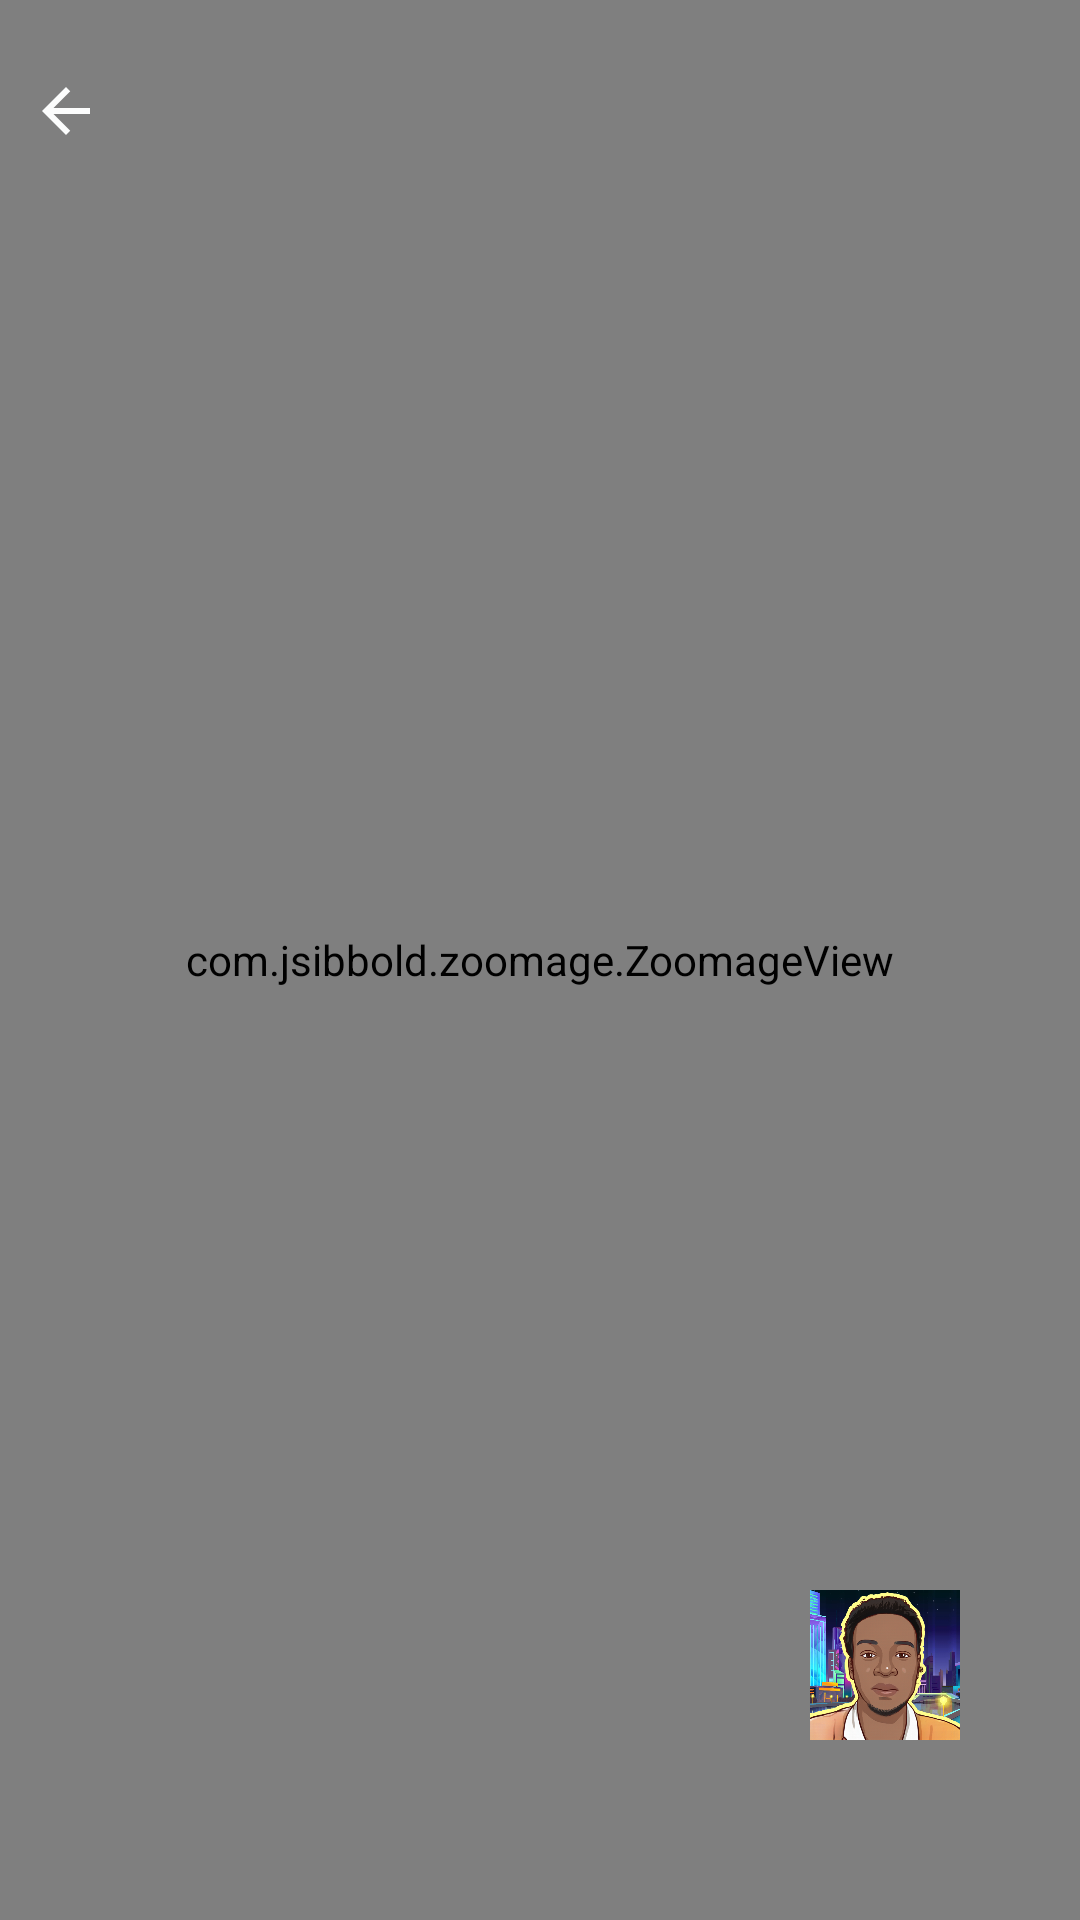

Point at icon controls on the screen. Image size 1080x1920, points as [x,y].
arrow back: [66,111]
